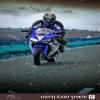motorcycles: (24, 26, 65, 66)
